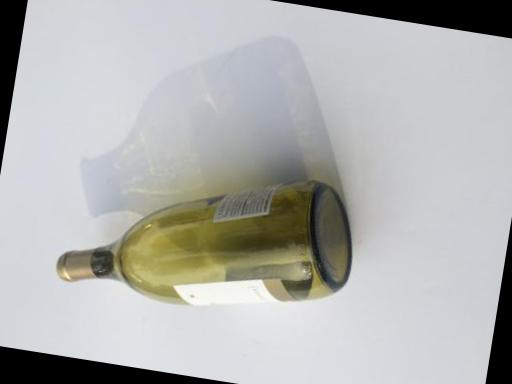glass: (18, 138, 378, 342)
